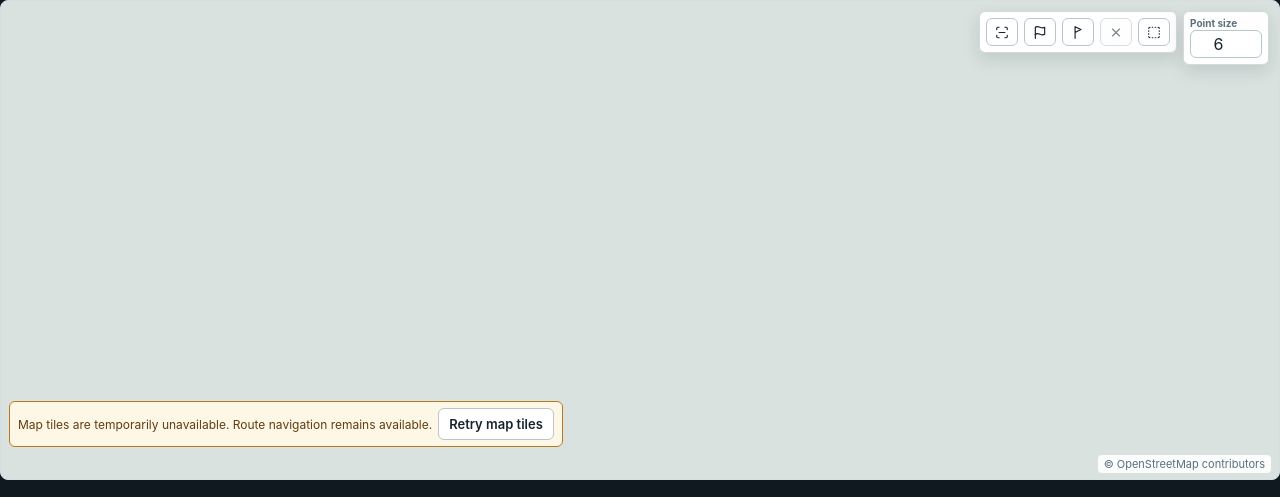
Test case: RouteMap source updates › keeps navigation and selection alive through raster errors, retry, and recovery
This screenshot has width=1280, height=497.
Expected: the message shows "Map tiles are temporarily unavailable", [18,416,432,432]
Click the button "Retry map tiles" at [496, 424], box [438,408,554,440]
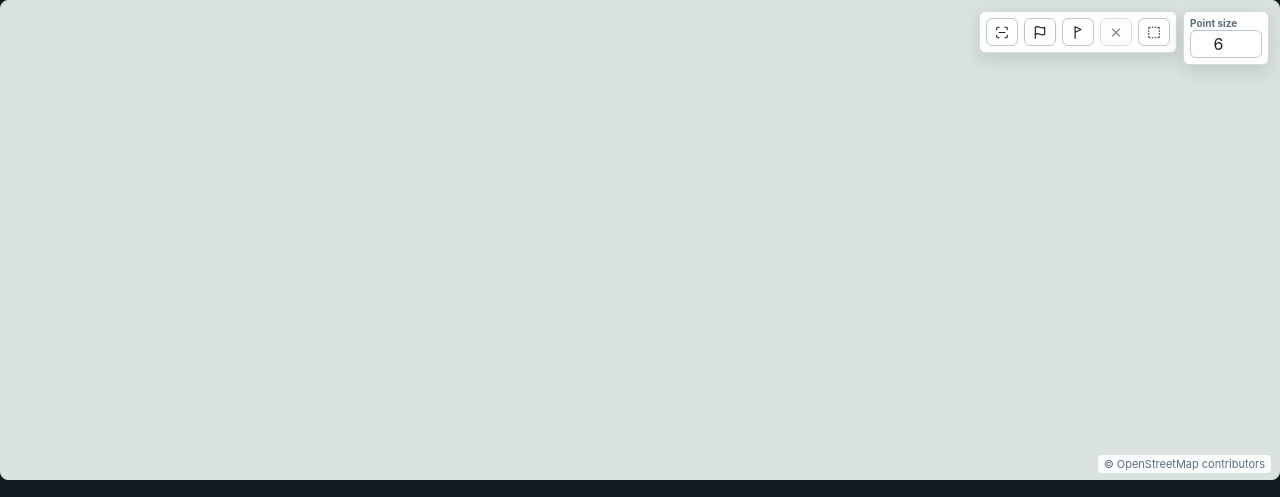
Expected: the message is gone
